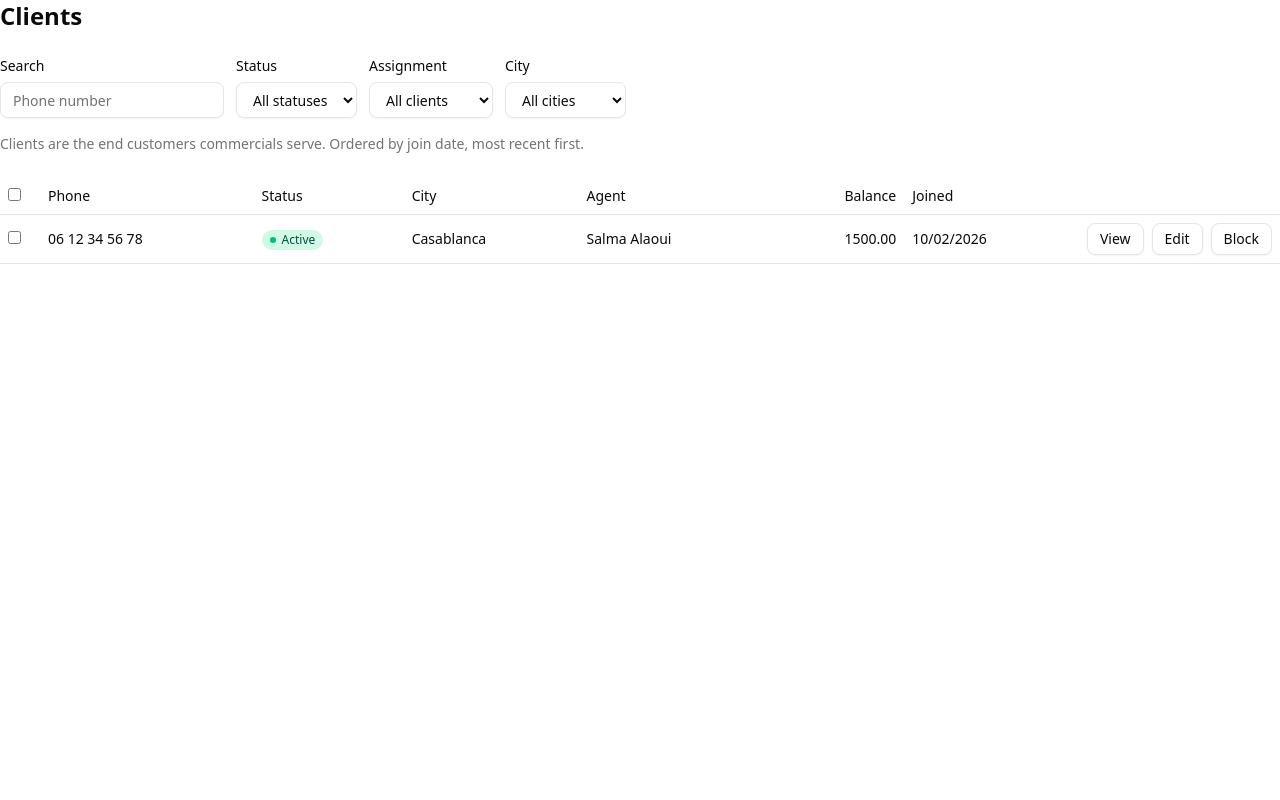
edit › rejects an empty phone client-side
Click the button with aria-label "edit 0612345678" at (1177, 239), box 1152,223 -> 1203,255
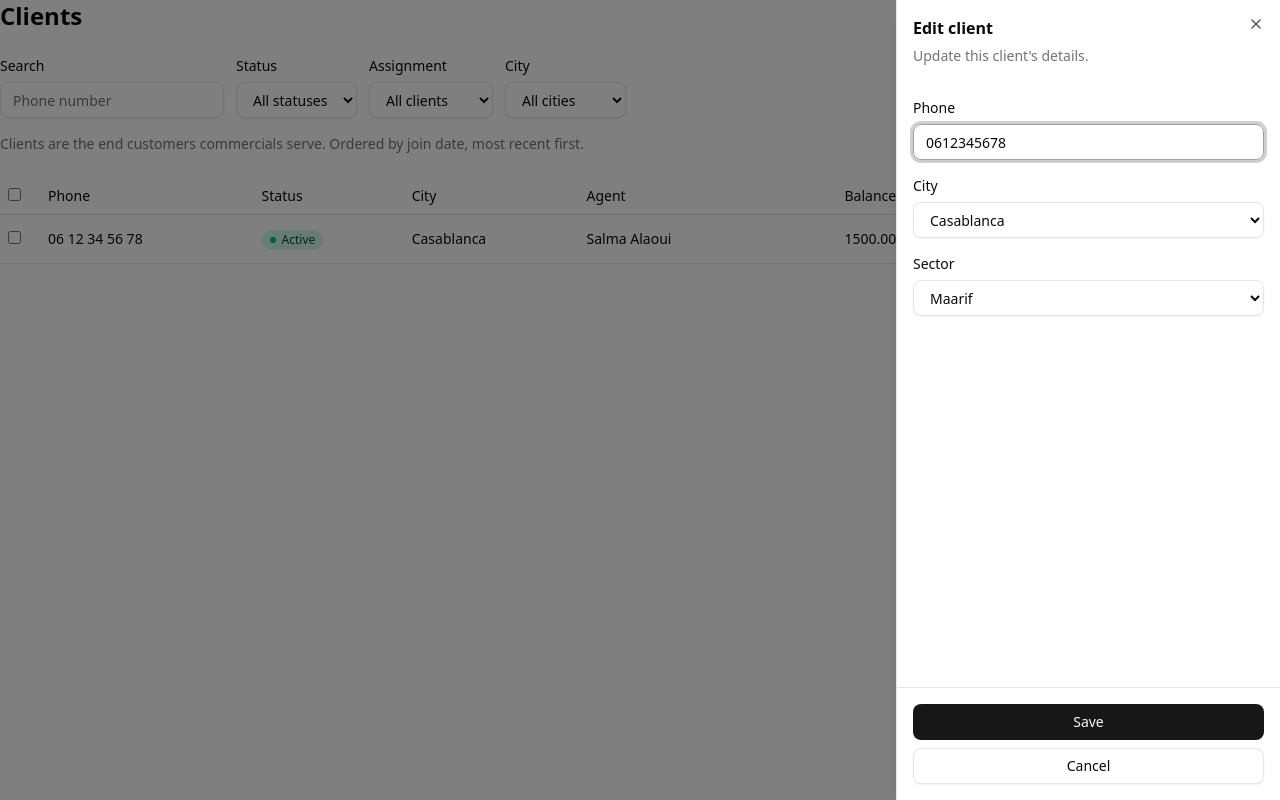
Clear the field labelled "Phone" at (1088, 142), box 913,124 -> 1264,160
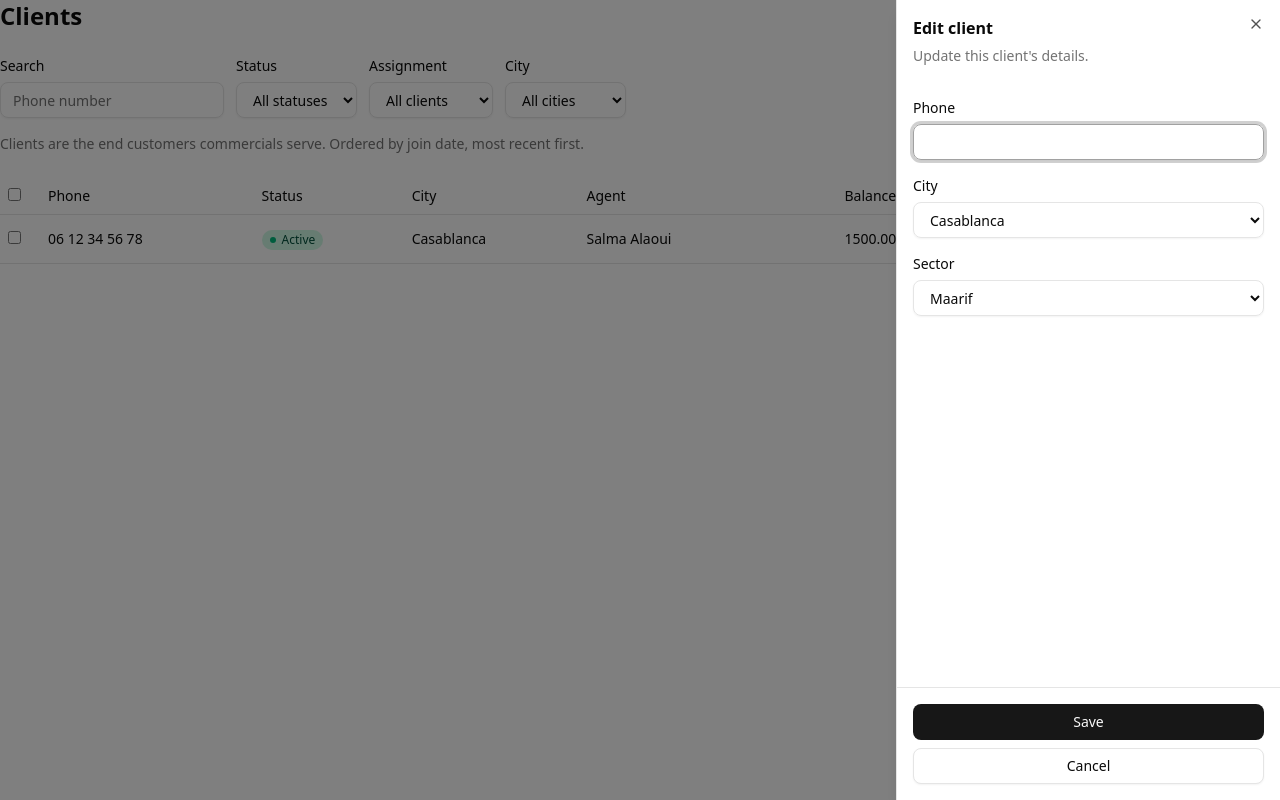
Click the button "Save" at (1088, 722), box 913,704 -> 1264,740
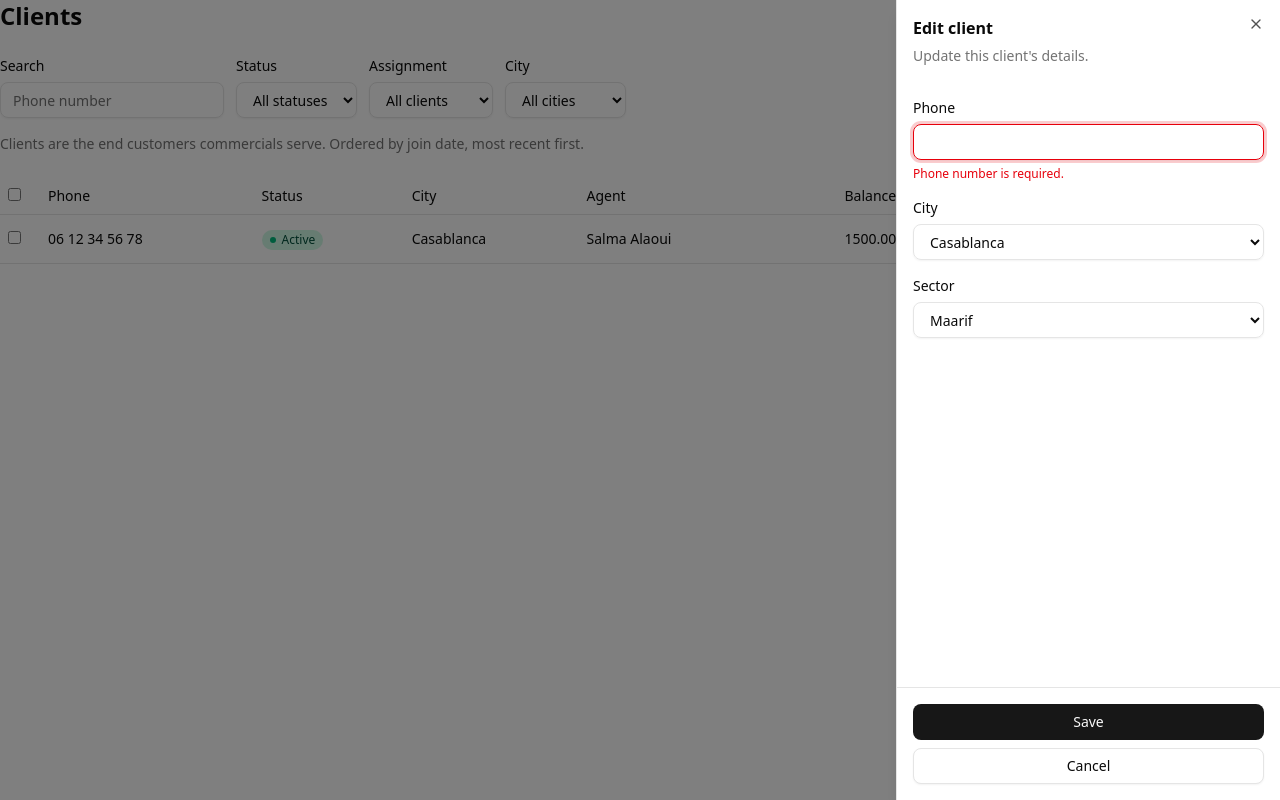
Check: the text "Phone number is required." is shown, box 913,165 -> 1064,182
